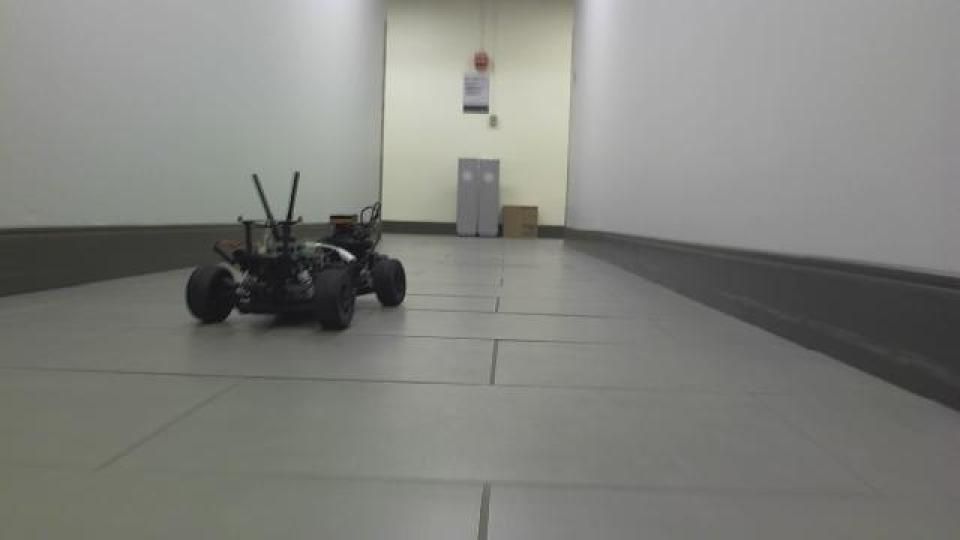car: (182, 168, 408, 333)
